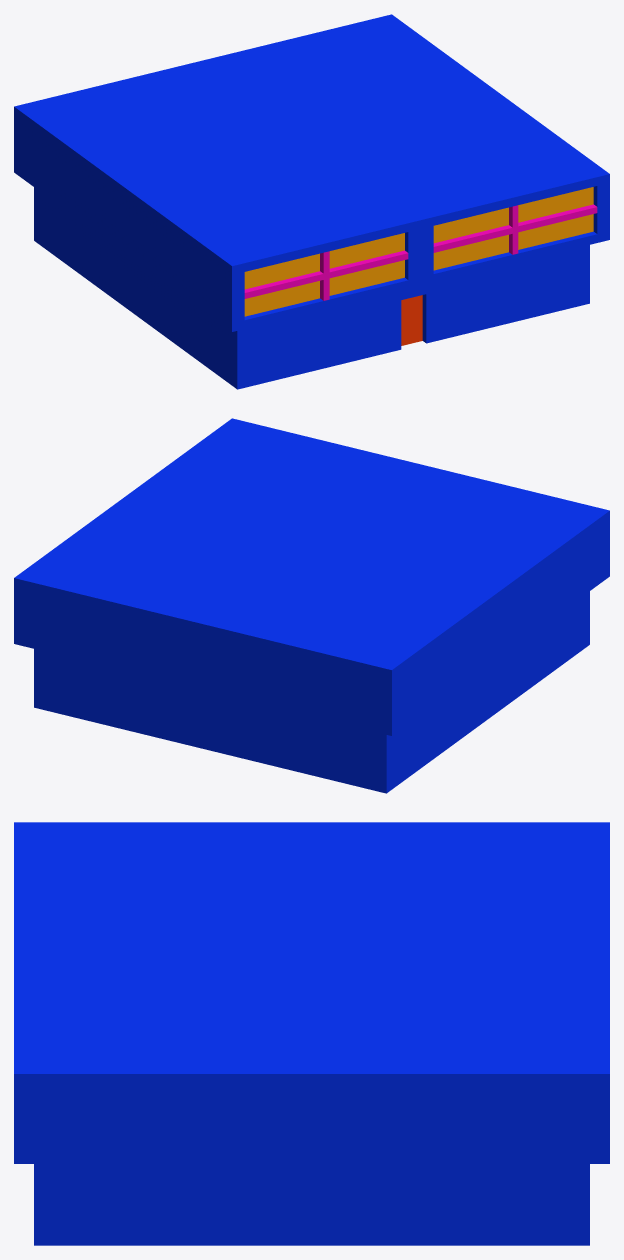
The model's file is parte03.FBX.
3 views of the same model, one above another, from view 1: azimuth 30°, elevation 25°; view 2: azimuth 150°, elevation 25°; view 3: azimuth 270°, elevation 25° (orthographic). The views are drawn at different scales.
Parts seen in each view (by area): view 1: Box008; view 2: Box008; view 3: Box008.
Boxes of the visible parts, x1=… form: Box008: x1=14, y1=14, x2=609, y2=389; Box008: x1=14, y1=418, x2=609, y2=793; Box008: x1=14, y1=822, x2=609, y2=1245.
Bounding box in the file's own units: 600 × 200 × 600.
